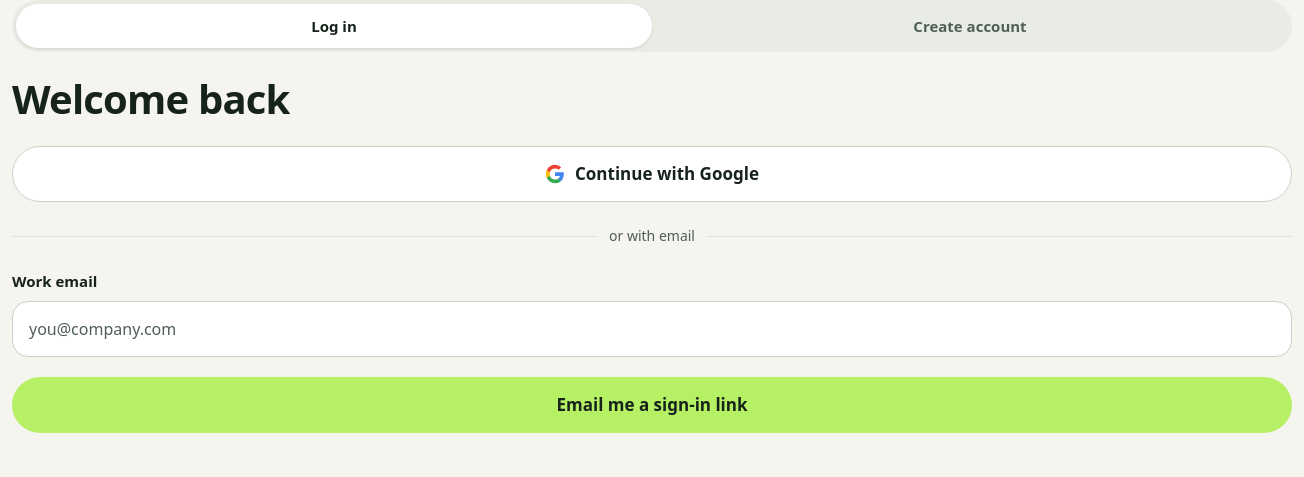
Test case: SignInPanel › explains a wrong address under the field and sends nothing
The width and height of the screenshot is (1304, 477).
Type "not-an-address" into the field labelled "Work email". click: (652, 328)
box: [12, 300, 1292, 356]
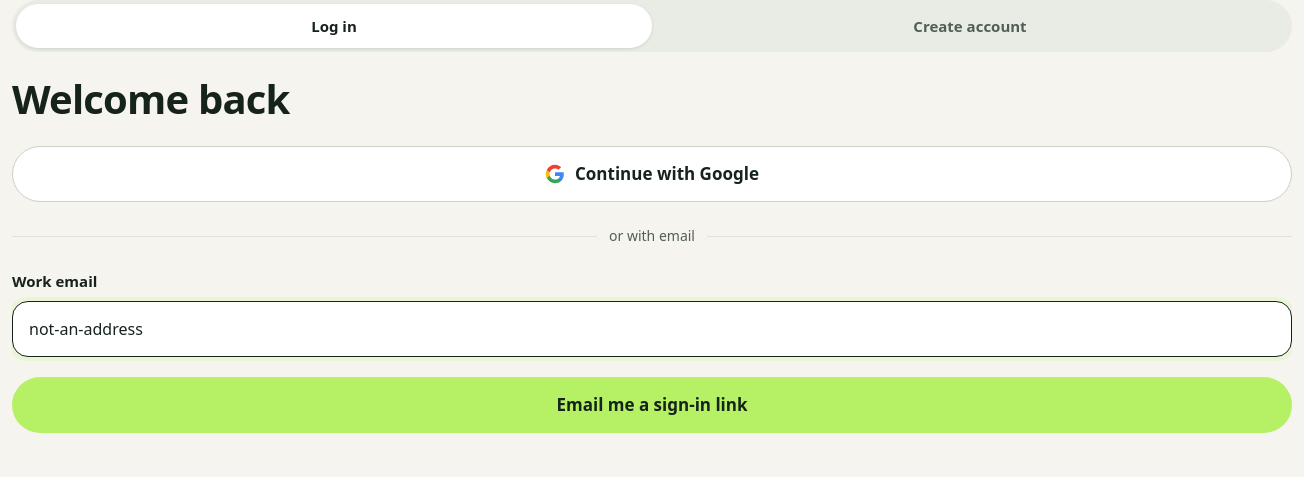
Click the button "Email me a sign-in link". click: (652, 404)
box: [12, 376, 1292, 432]
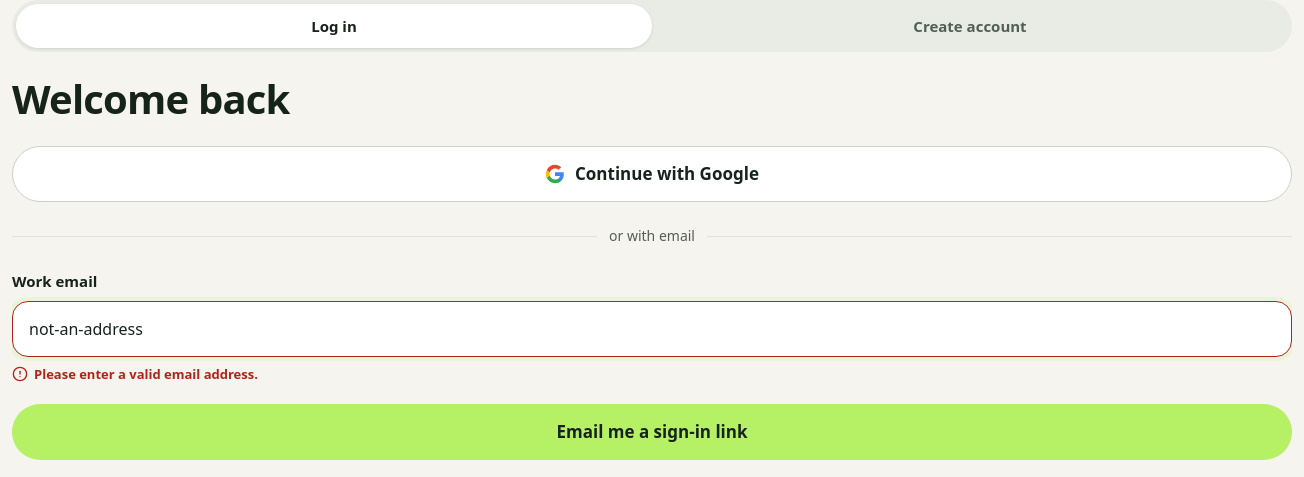
expect the text "Please enter a valid email address." is shown: met, box [12, 364, 258, 382]
